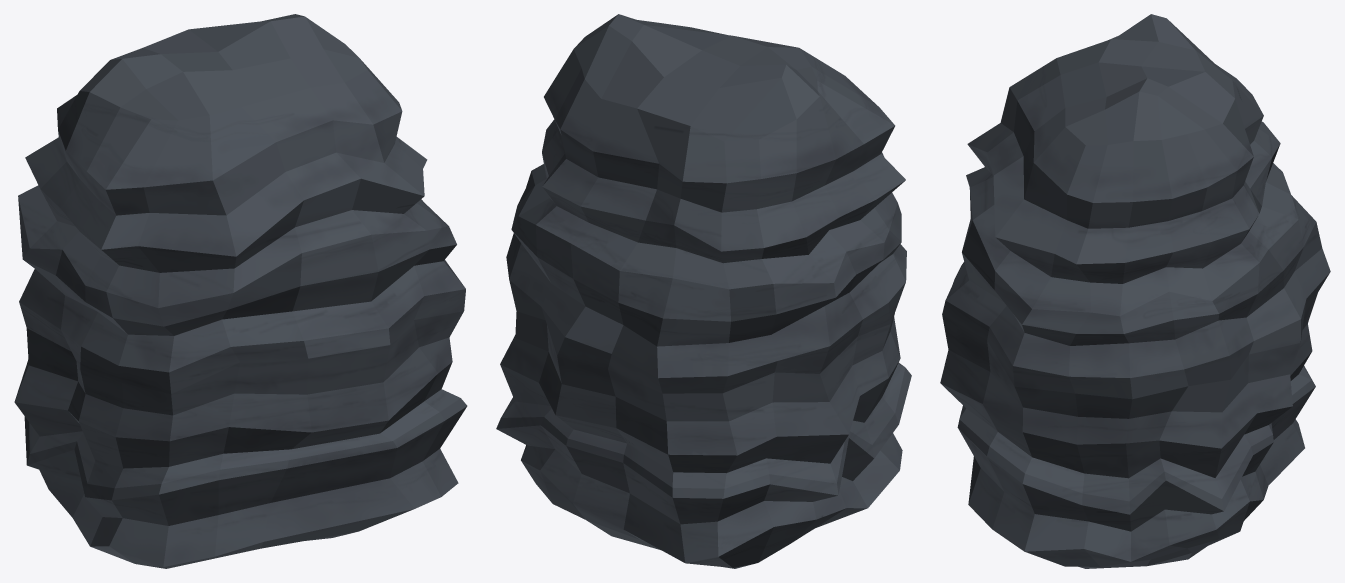
The model's file is CliffFace01.fbx.
The picture shows the model from 3 angles, left to right: view 1: azimuth 30°, elevation 25°; view 2: azimuth 150°, elevation 25°; view 3: azimuth 270°, elevation 25°; orthographic projection. The views are drawn at different scales.
Visible parts, largest first — view 1: CliffFace_Geo; view 2: CliffFace_Geo; view 3: CliffFace_Geo.
Part boxes in pixels (bbox=[...]): CliffFace_Geo: bbox=[14, 14, 467, 568]; CliffFace_Geo: bbox=[496, 14, 911, 568]; CliffFace_Geo: bbox=[940, 14, 1330, 568].
Bounding box in the file's own units: 136 × 175 × 130.
Materials: 1 (1 with a texture image).
